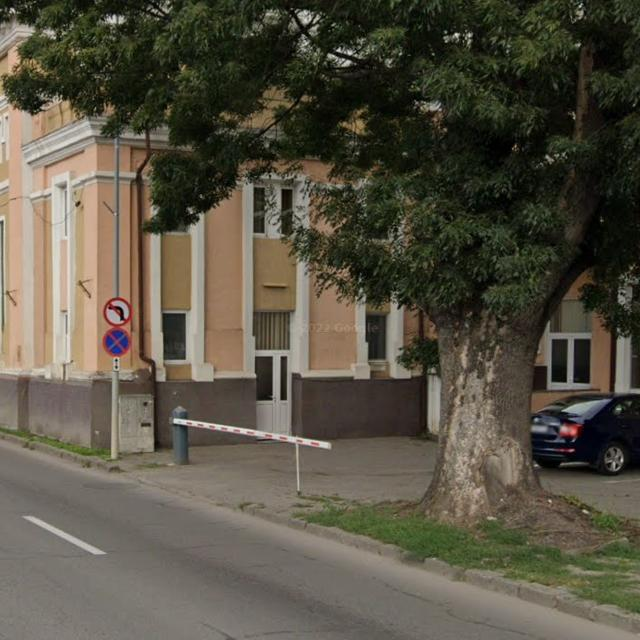forb_waiting: (103, 327, 131, 357)
